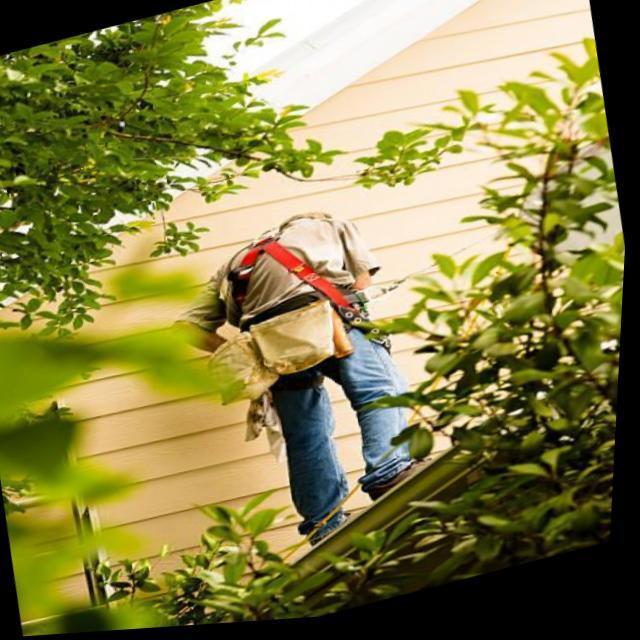belt: (206, 205, 382, 372)
